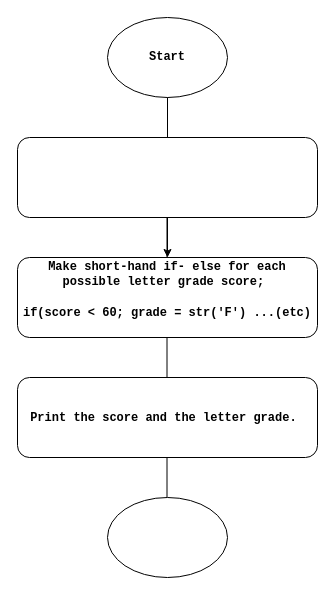
Some shapes in this 335 by 595 pixel diagram are drawn without their labels. Each missing label, with the centre of its shape:
Ask the user to input their score. The score is an integer. variable: score: (167,177)
End: (167,537)
